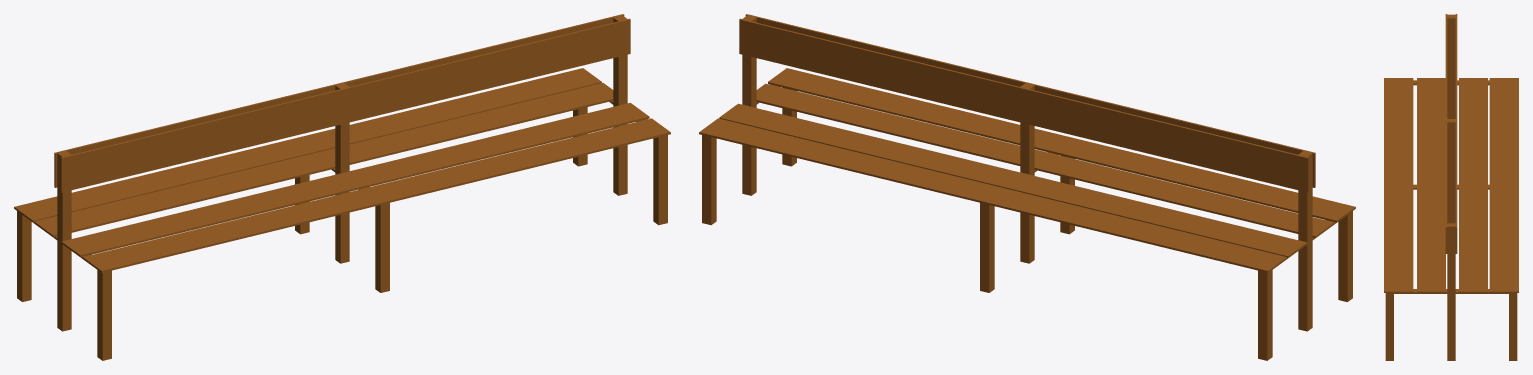
The picture shows the model from 3 angles, left to right: view 1: azimuth 30°, elevation 25°; view 2: azimuth 150°, elevation 25°; view 3: azimuth 270°, elevation 25°; orthographic projection. The views are drawn at different scales.
Parts seen in each view (by area): view 1: mesh7_mesh7-geometry, mesh1_mesh1-geometry, mesh3_mesh3-geometry; view 2: mesh7_mesh7-geometry, mesh1_mesh1-geometry, mesh3_mesh3-geometry; view 3: mesh7_mesh7-geometry, mesh3_mesh3-geometry, mesh1_mesh1-geometry, mesh5_mesh5-geometry.
Part boxes in pixels (box(x1,y1,x2,y2)): mesh7_mesh7-geometry: box(14, 14, 670, 272); mesh1_mesh1-geometry: box(17, 107, 667, 360); mesh3_mesh3-geometry: box(57, 15, 627, 331); mesh7_mesh7-geometry: box(699, 14, 1355, 272); mesh1_mesh1-geometry: box(702, 87, 1352, 360); mesh3_mesh3-geometry: box(742, 15, 1312, 331); mesh7_mesh7-geometry: box(1384, 14, 1518, 292); mesh3_mesh3-geometry: box(1447, 14, 1455, 360); mesh1_mesh1-geometry: box(1385, 294, 1517, 360); mesh5_mesh5-geometry: box(1385, 80, 1517, 293).
Size of the model in its own units: 0.9296 by 0.2725 by 0.2483.
